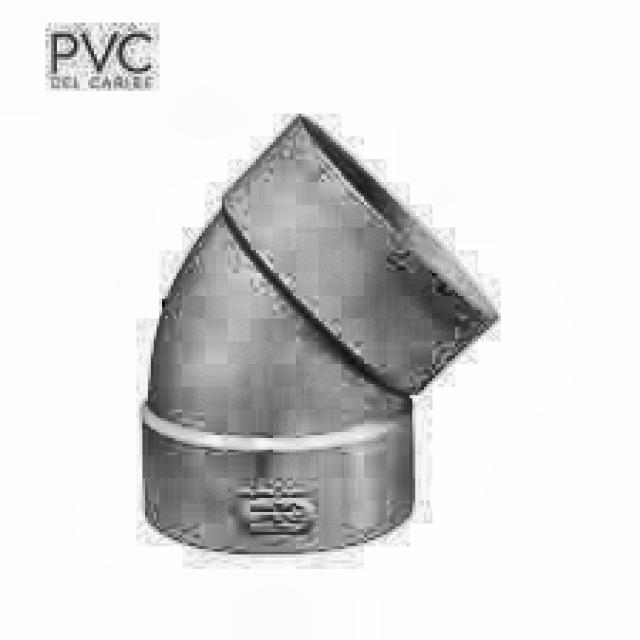ELBOW45: (139, 117, 501, 555)
